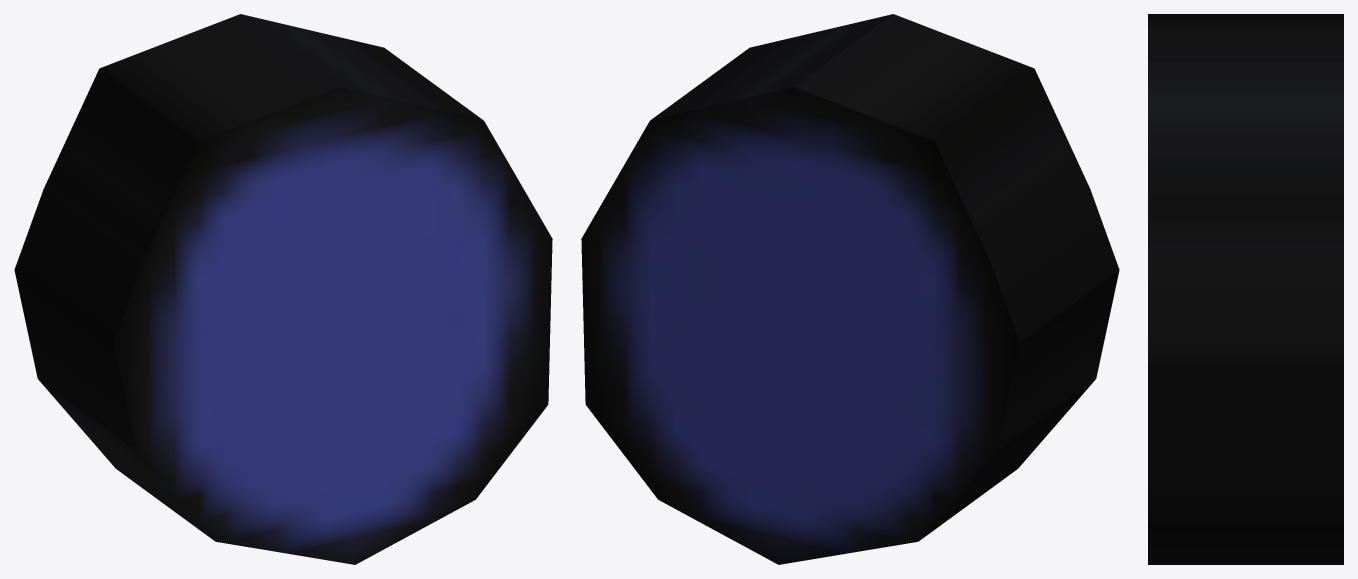
File: dodo_Hand.fbx
3 views of the same model, side by side, from view 1: azimuth 30°, elevation 25°; view 2: azimuth 150°, elevation 25°; view 3: azimuth 270°, elevation 25° (orthographic).
Visible parts, largest first — view 1: polySurface4; view 2: polySurface4; view 3: polySurface4.
Part boxes in pixels (<box>): polySurface4: <box>14,14,552,564</box>; polySurface4: <box>581,14,1119,564</box>; polySurface4: <box>1148,14,1343,564</box>.
Size of the model in its own units: 0.0984 by 0.1033 by 0.0388.
